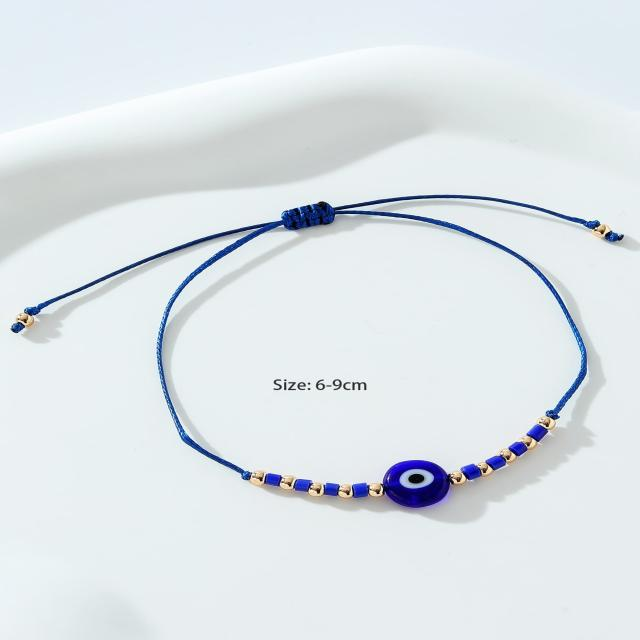bracelet: (3, 140, 640, 640)
